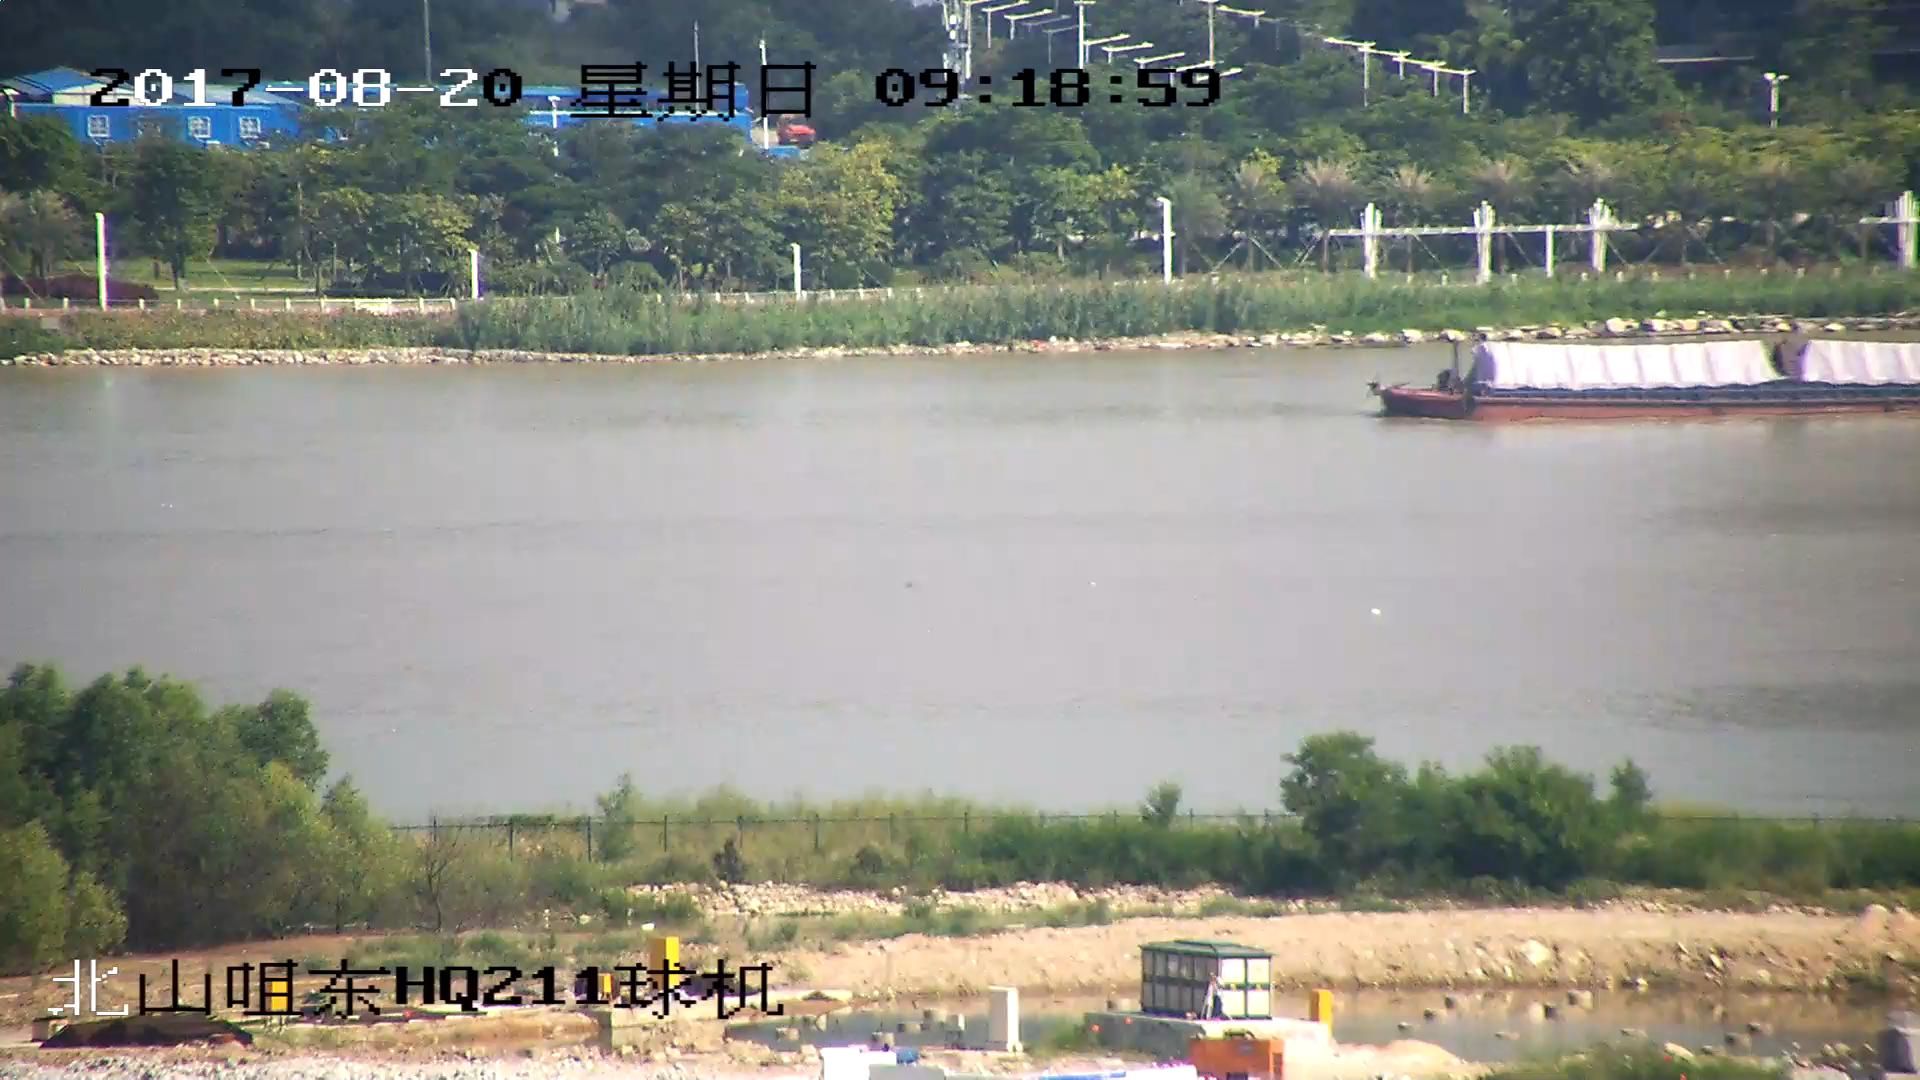general cargo ship: (1373, 340, 1920, 419)
